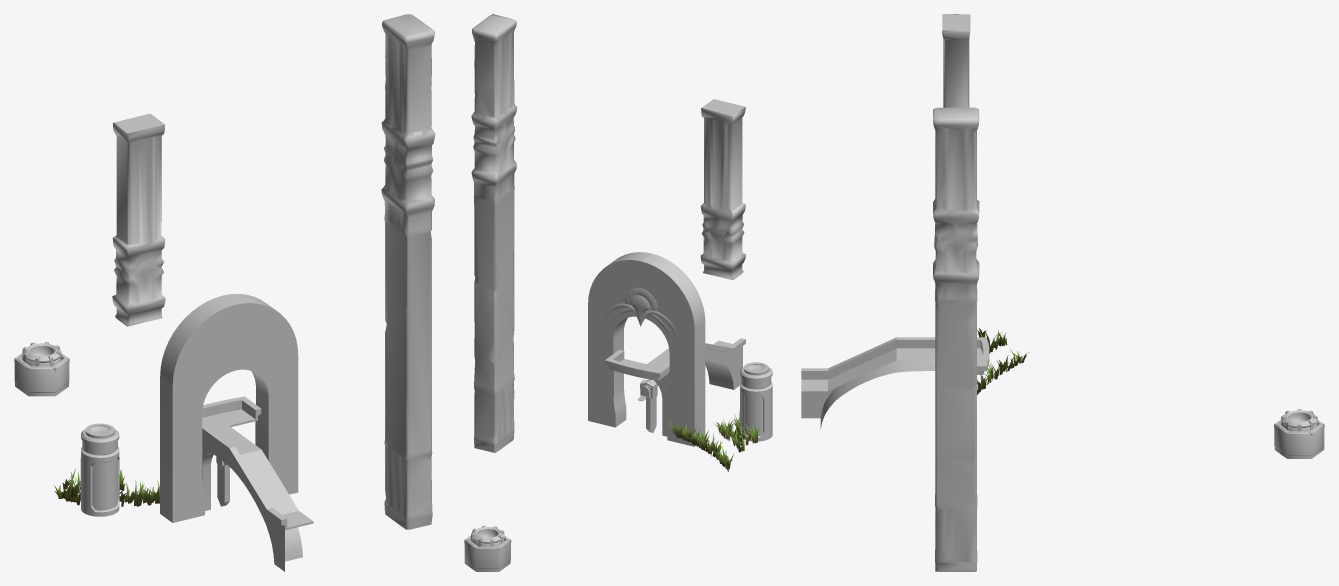
3 views of the same model, side by side, from view 1: azimuth 30°, elevation 25°; view 2: azimuth 150°, elevation 25°; view 3: azimuth 270°, elevation 25° (orthographic). The views are drawn at different scales.
Parts seen in each view (by area): view 1: EG_BackgroundBalcony_Pillar, EG_Gate, EG_Pillar, EG_Gate_Bridge, EG_Tower, EG_blocker01, EG_GateBalcony, EG_Ring_Plants, EG_Courtyard_Pillar; view 2: EG_BackgroundBalcony_Pillar, EG_Gate, EG_Pillar, EG_Tower, EG_Gate_Bridge, EG_blocker01, EG_Ring_Plants, EG_GateBalcony, EG_Courtyard_Pillar; view 3: EG_BackgroundBalcony_Pillar, EG_Gate_Bridge, EG_Pillar, EG_blocker01, EG_Ring_Plants.
Part boxes in pixels (x1,y1,x2,y2): EG_BackgroundBalcony_Pillar: [381, 14, 435, 529]; EG_Gate: [160, 293, 298, 522]; EG_Pillar: [112, 113, 165, 326]; EG_Gate_Bridge: [202, 423, 313, 571]; EG_Tower: [80, 423, 119, 516]; EG_blocker01: [14, 342, 69, 396]; EG_GateBalcony: [202, 396, 261, 429]; EG_Ring_Plants: [54, 468, 159, 506]; EG_Courtyard_Pillar: [216, 456, 229, 506]; EG_BackgroundBalcony_Pillar: [471, 14, 517, 452]; EG_Gate: [588, 252, 705, 446]; EG_Pillar: [700, 99, 745, 280]; EG_Tower: [740, 362, 772, 441]; EG_Gate_Bridge: [647, 338, 745, 436]; EG_blocker01: [464, 526, 511, 571]; EG_Ring_Plants: [666, 410, 759, 471]; EG_GateBalcony: [605, 350, 669, 380]; EG_Courtyard_Pillar: [637, 379, 657, 432]; EG_BackgroundBalcony_Pillar: [933, 107, 979, 571]; EG_Gate_Bridge: [801, 337, 935, 428]; EG_Pillar: [942, 14, 970, 107]; EG_blocker01: [1274, 409, 1324, 458]; EG_Ring_Plants: [977, 328, 1028, 394].
Size of the model in its own units: 945 by 1310 by 1373.
